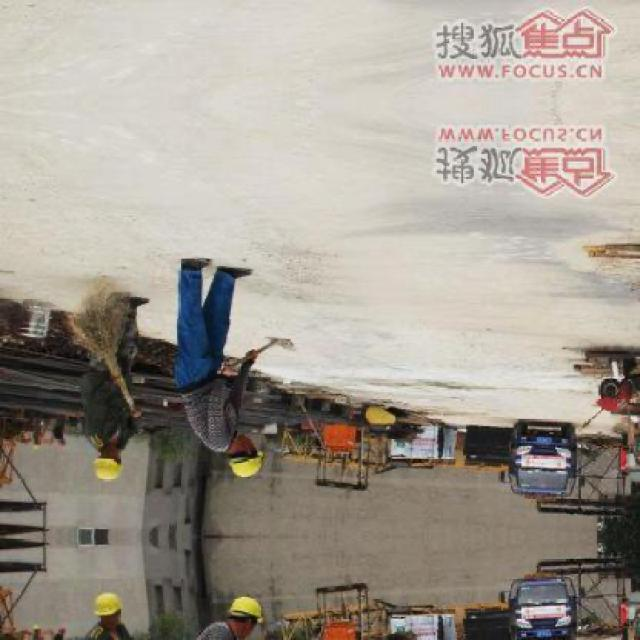con casco: (89, 446, 139, 504), (198, 448, 246, 488)
